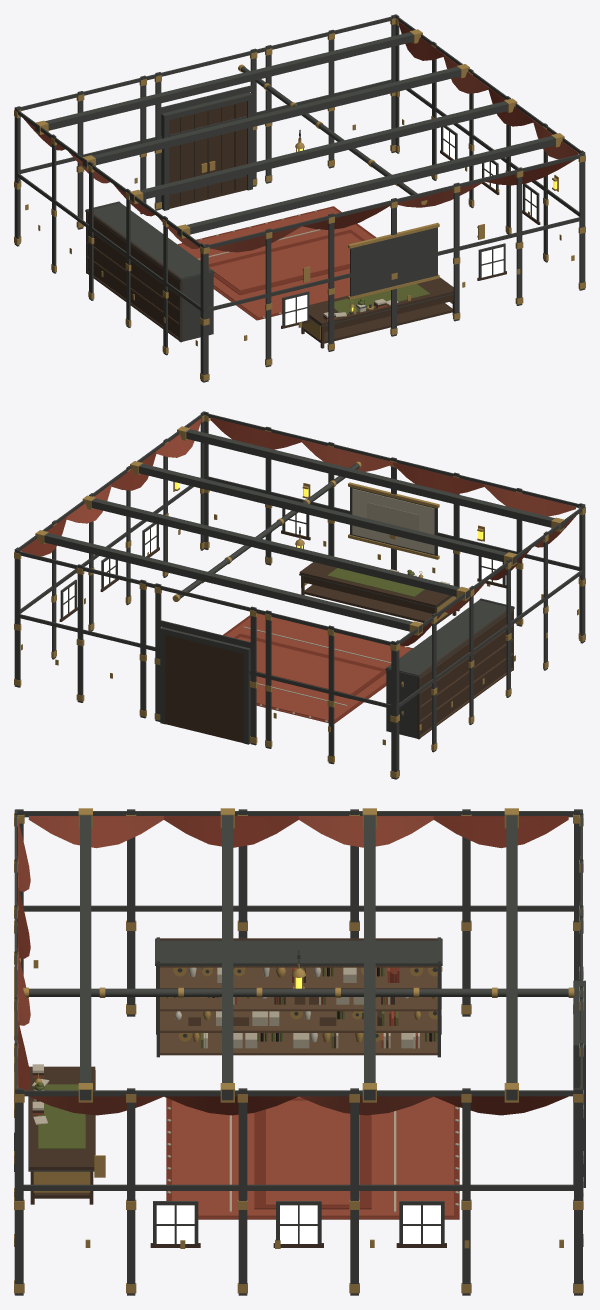
File: mayor_set.glb
3 views of the same model, one above another, from view 1: azimuth 30°, elevation 25°; view 2: azimuth 150°, elevation 25°; view 3: azimuth 270°, elevation 25° (orthographic). The views are drawn at different scales.
Parts seen in each view (by area): view 1: mayor_set; view 2: mayor_set; view 3: mayor_set.
Boxes of the visible parts, bbox=[...] form: mayor_set: bbox=[14, 14, 585, 382]; mayor_set: bbox=[14, 411, 585, 779]; mayor_set: bbox=[14, 808, 585, 1295].
Bounding box in the file's own units: 14.06 × 4.82 × 12.08.
